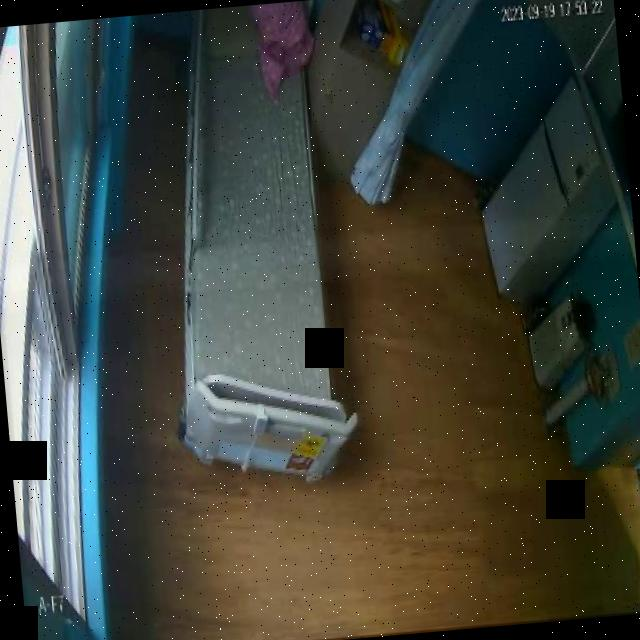bed: (148, 1, 362, 490)
